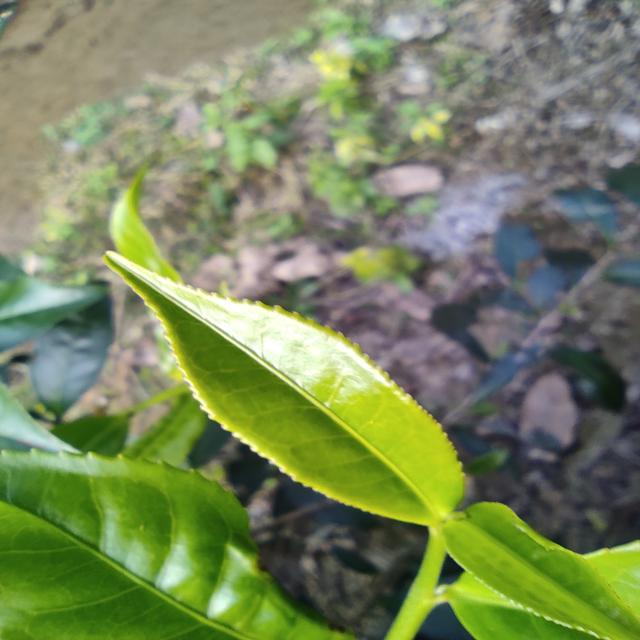Category B(2-4 days): (94, 248, 484, 538)
